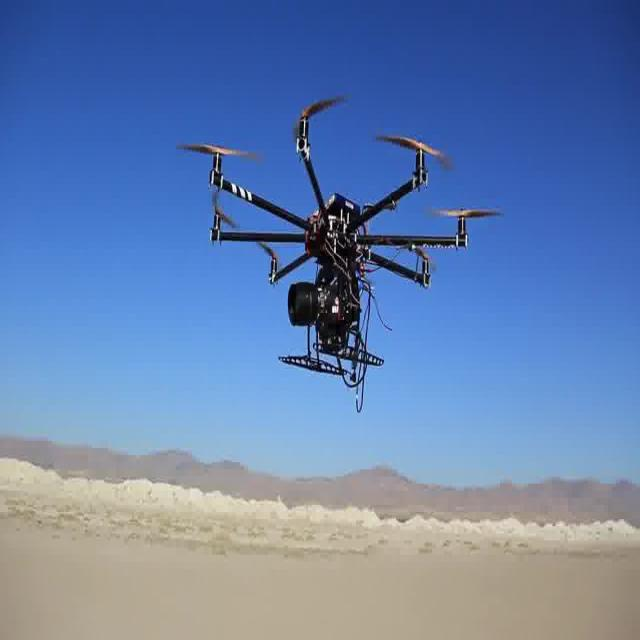drone: (164, 89, 506, 423)
